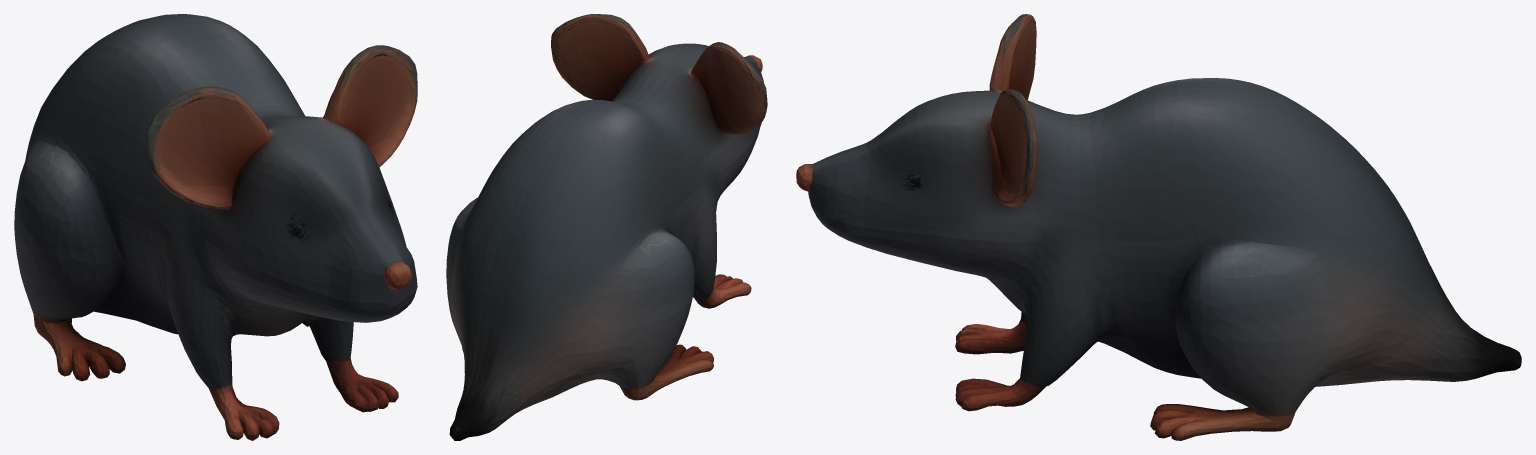
File: 0a06704b-1bcd-493e-9a32-36169c7c8634.glb
The picture shows the model from 3 angles, left to right: view 1: azimuth 30°, elevation 25°; view 2: azimuth 150°, elevation 25°; view 3: azimuth 270°, elevation 25°; orthographic projection. The views are drawn at different scales.
Visible parts, largest first — view 1: world; view 2: world; view 3: world.
Boxes of the visible parts, box(x1,y1,x2,y2) form: world: box(14, 14, 417, 440); world: box(446, 14, 767, 440); world: box(796, 14, 1521, 440).
Bounding box in the file's own units: 0.4421 × 0.4964 × 1.
1 material, 1 textured.
